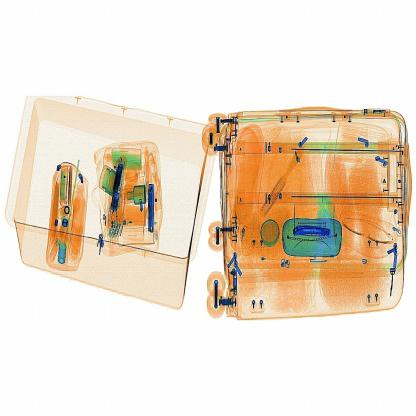knife: (290, 217, 335, 247)
